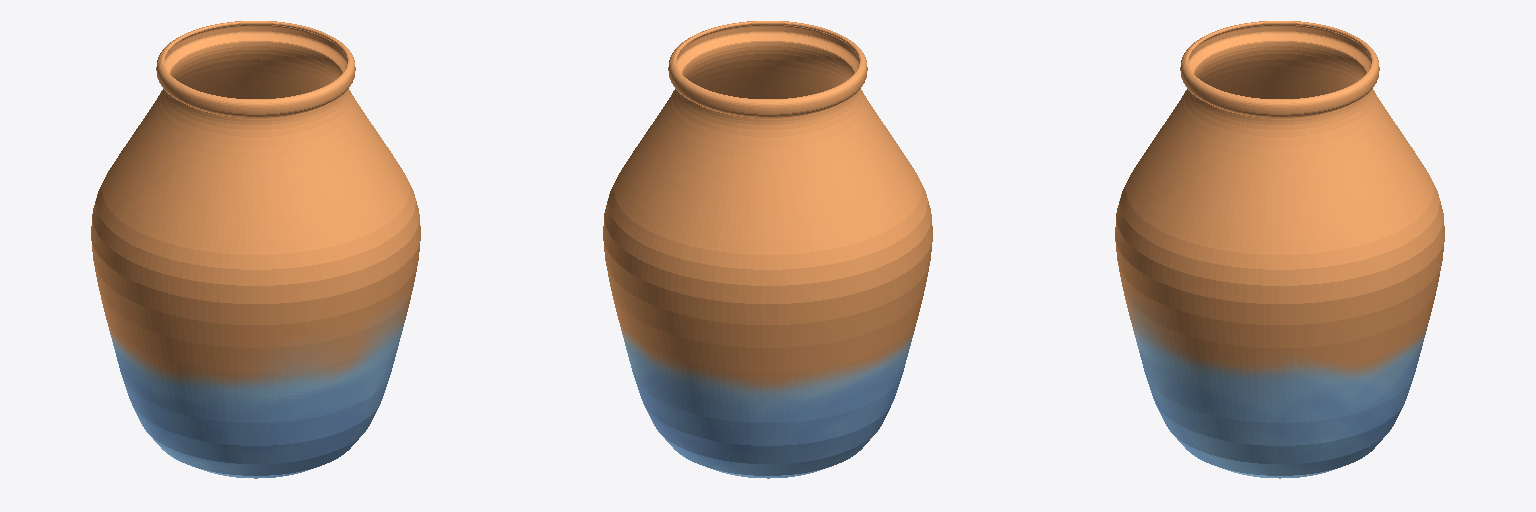
The picture shows the model from 3 angles: view 1: azimuth 30°, elevation 25°; view 2: azimuth 150°, elevation 25°; view 3: azimuth 270°, elevation 25°; orthographic projection.
Parts seen in each view (by area): view 1: Circle.005; view 2: Circle.005; view 3: Circle.005.
Part boxes in pixels (left/top/right/bottom): Circle.005: left=91, top=21, right=420, bottom=478; Circle.005: left=603, top=21, right=932, bottom=478; Circle.005: left=1115, top=21, right=1444, bottom=478.
Bounding box in the file's own units: 1.09 × 1.42 × 1.09.
1 materials, 1 textured.